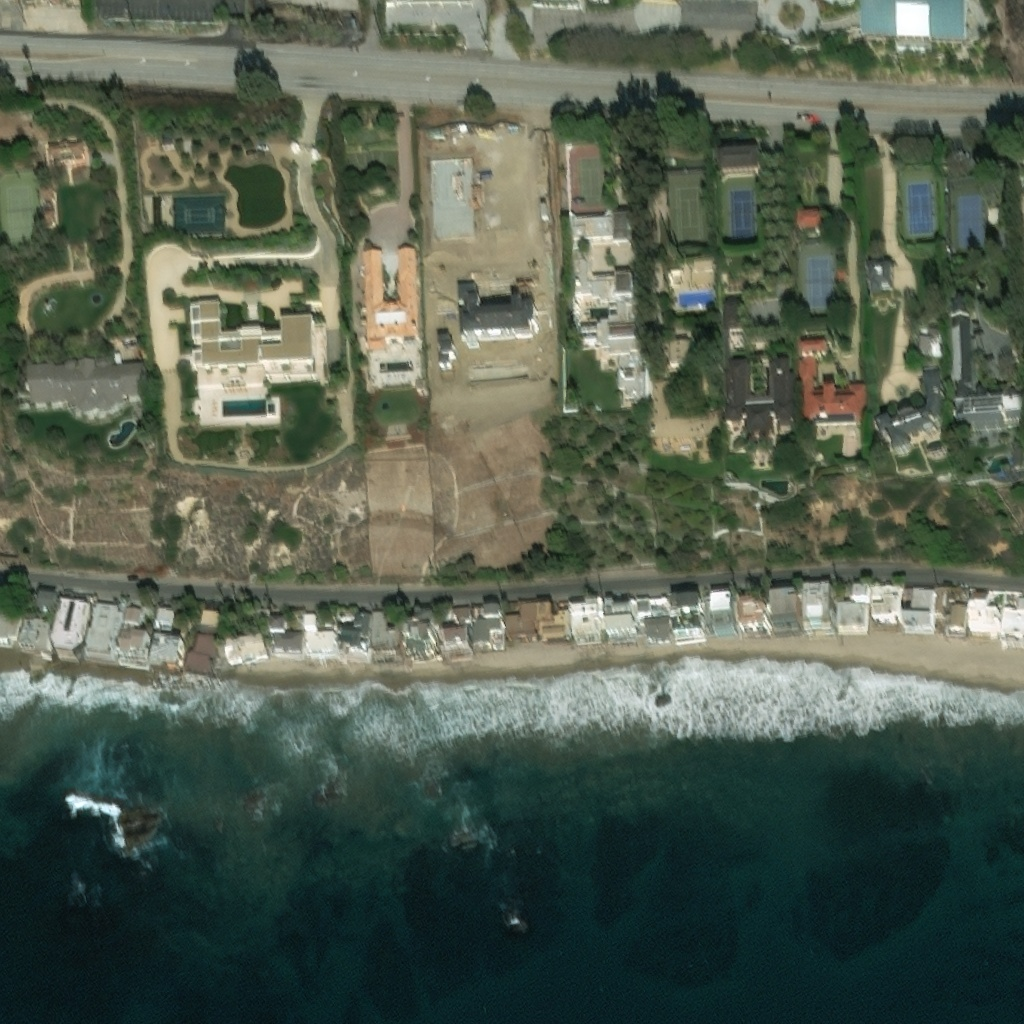0 no-damage: (571, 208, 646, 402), (950, 323, 1022, 432), (199, 299, 315, 365), (27, 355, 148, 412), (873, 365, 944, 451), (362, 243, 419, 347), (723, 354, 795, 435), (798, 337, 866, 422), (861, 0, 968, 46), (428, 150, 483, 232), (456, 278, 534, 330), (51, 596, 90, 656), (84, 602, 123, 659), (266, 605, 303, 651), (118, 605, 148, 657), (223, 630, 267, 663), (437, 607, 472, 648), (185, 629, 219, 671), (472, 607, 505, 650), (337, 612, 371, 653), (902, 588, 934, 631), (968, 589, 999, 631), (404, 612, 438, 650), (371, 609, 402, 650), (572, 602, 603, 643), (303, 612, 335, 651), (537, 603, 569, 641), (871, 586, 902, 623), (1000, 594, 1023, 643), (19, 616, 52, 650), (149, 634, 183, 667), (804, 586, 831, 626), (506, 601, 537, 635), (739, 597, 769, 632), (718, 145, 758, 171), (46, 138, 85, 163), (916, 321, 942, 356), (836, 603, 867, 631), (748, 291, 779, 319), (644, 613, 670, 642), (867, 260, 893, 289), (672, 614, 704, 637), (719, 291, 740, 326), (770, 593, 798, 618), (946, 603, 966, 634), (635, 599, 671, 616), (605, 622, 635, 642), (936, 585, 951, 625), (605, 601, 632, 621), (796, 206, 823, 226), (35, 589, 57, 612), (437, 329, 452, 362), (710, 595, 732, 617), (672, 597, 699, 614), (199, 609, 219, 630), (156, 608, 173, 631), (986, 202, 999, 222), (853, 586, 869, 601), (39, 183, 52, 197), (40, 208, 54, 221), (838, 269, 846, 281)
